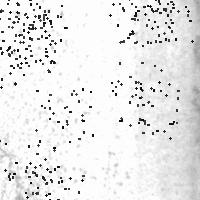pitted_surface: (1, 7, 126, 199), (117, 80, 177, 137), (35, 88, 92, 147), (111, 38, 168, 97), (0, 11, 54, 71), (0, 140, 57, 196), (0, 0, 57, 55), (132, 0, 191, 41), (121, 0, 177, 42), (7, 0, 65, 39), (0, 33, 35, 86), (25, 171, 83, 200), (105, 0, 165, 27)
